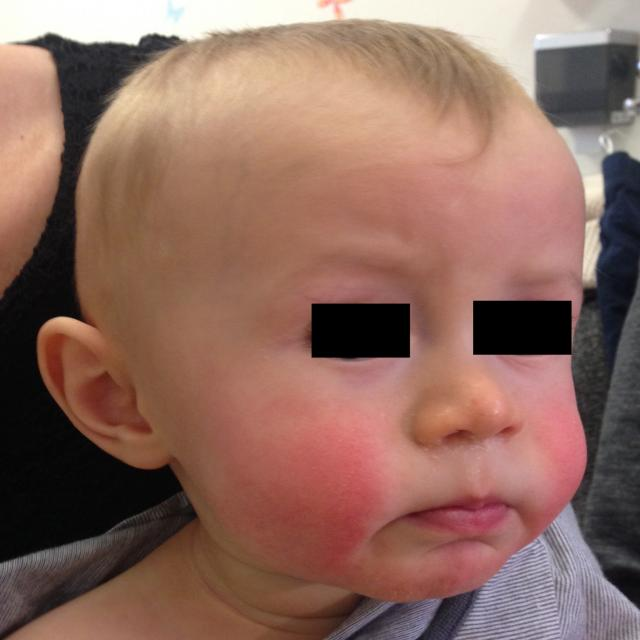Erythema infectiosum: (200, 387, 388, 562)
